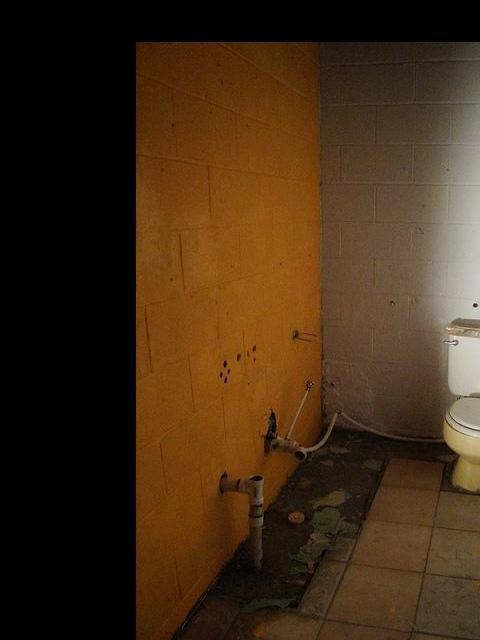Sanitario: (438, 322, 480, 503)
